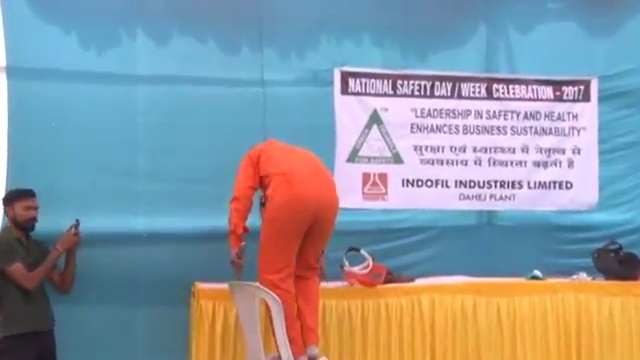helmet_off: (2, 188, 38, 234)
person: (224, 140, 342, 360), (1, 187, 82, 360)
